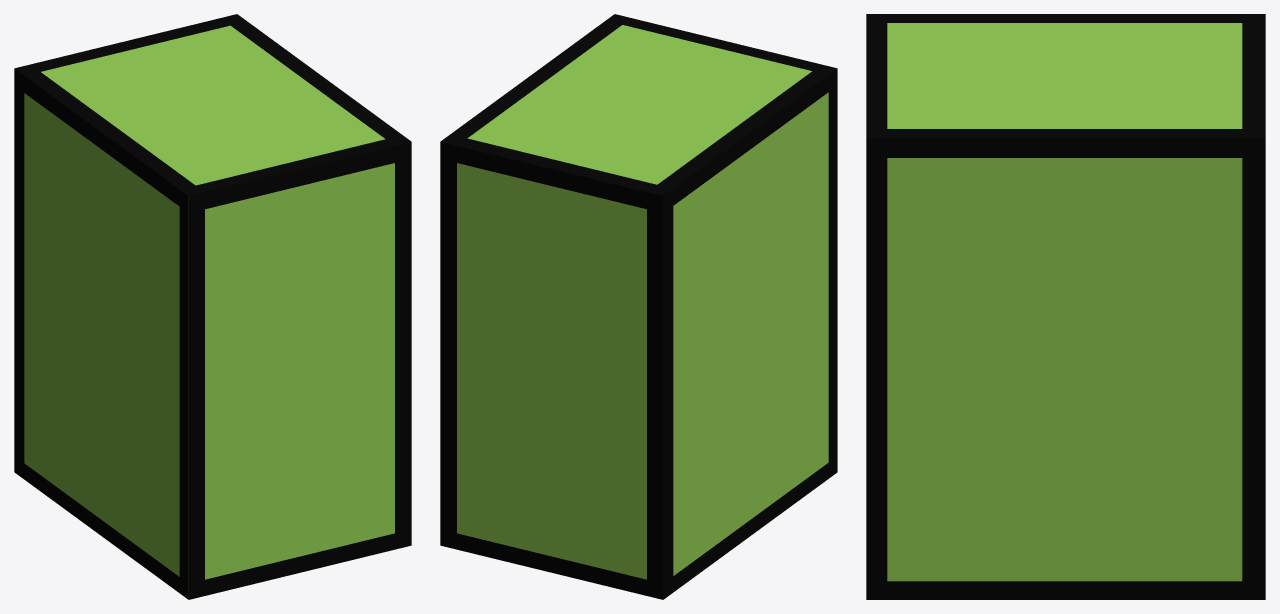
File: hokakuteki_body.fbx
The picture shows the model from 3 angles, left to right: view 1: azimuth 30°, elevation 25°; view 2: azimuth 150°, elevation 25°; view 3: azimuth 270°, elevation 25°; orthographic projection. The views are drawn at different scales.
Parts seen in each view (by area): view 1: 立方体.001; view 2: 立方体.001; view 3: 立方体.001.
Boxes of the visible parts, x1=… form: 立方体.001: x1=14, y1=14, x2=411, y2=599; 立方体.001: x1=440, y1=14, x2=837, y2=599; 立方体.001: x1=866, y1=14, x2=1265, y2=599.
Size of the model in its own units: 271 by 200 by 346.
